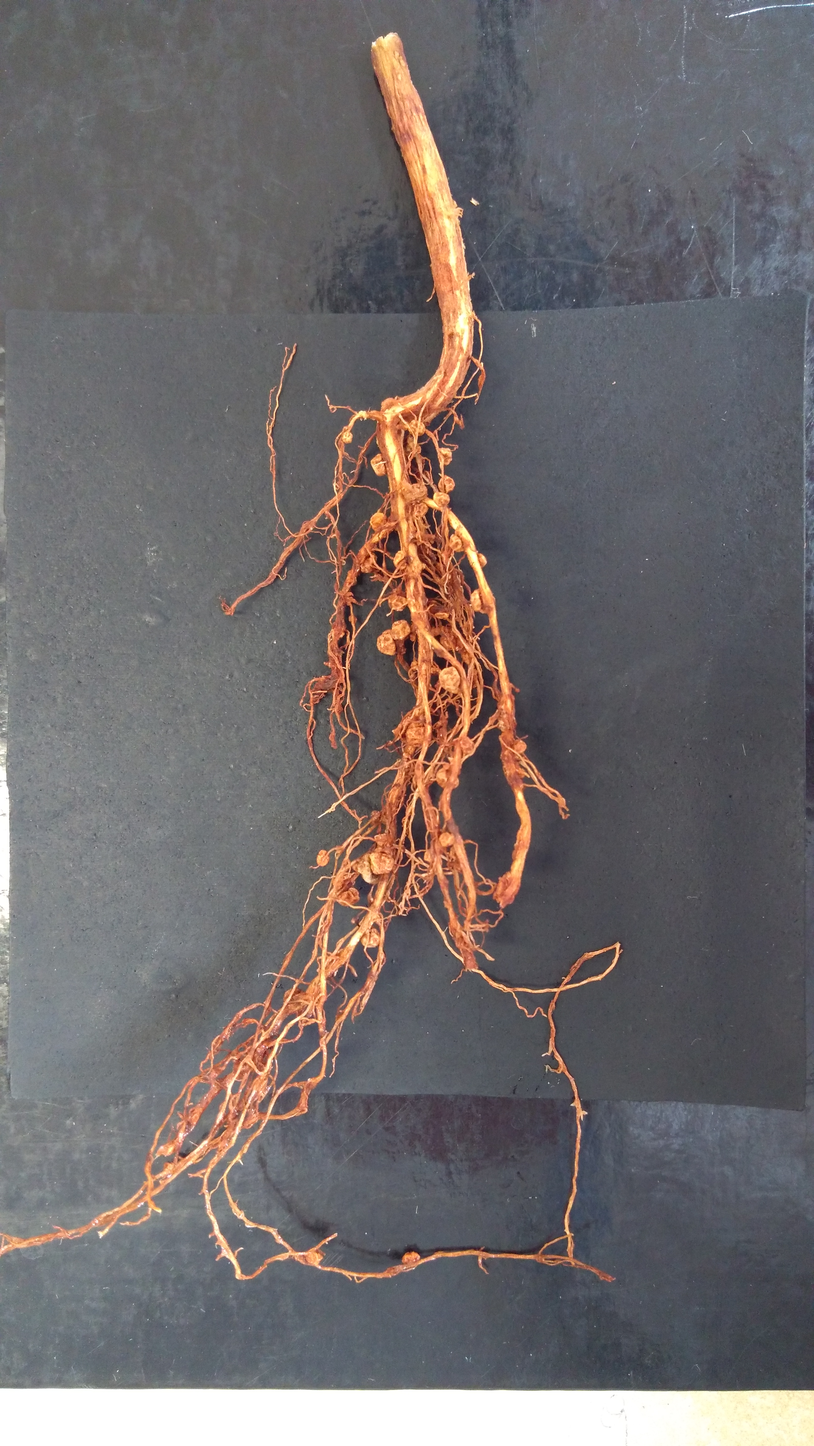nodule: (495, 871, 522, 905), (356, 852, 381, 885), (500, 747, 521, 786), (497, 695, 518, 731), (469, 588, 496, 613), (439, 666, 460, 695), (369, 851, 395, 874), (435, 766, 459, 789), (405, 721, 426, 747), (376, 629, 396, 656), (283, 987, 306, 1009), (403, 483, 428, 503), (390, 619, 411, 641), (336, 888, 360, 907), (232, 1056, 251, 1080), (361, 928, 381, 949), (370, 454, 387, 478), (331, 873, 356, 889), (325, 950, 339, 978), (387, 594, 408, 612), (360, 553, 378, 573), (369, 513, 388, 531), (423, 848, 443, 865), (438, 475, 455, 494), (439, 632, 456, 651), (459, 736, 476, 754), (251, 1075, 268, 1092), (437, 447, 453, 465), (393, 550, 407, 570), (409, 420, 426, 436), (413, 502, 429, 518), (433, 492, 450, 507), (402, 1250, 420, 1264), (439, 832, 455, 847), (448, 534, 462, 551), (316, 849, 329, 867), (305, 1252, 323, 1265), (459, 648, 472, 665), (513, 738, 527, 753), (307, 1246, 326, 1257), (336, 948, 350, 962), (380, 397, 395, 410), (409, 442, 422, 457), (223, 1073, 236, 1087), (414, 760, 424, 777), (370, 810, 381, 825), (374, 833, 390, 843), (343, 431, 353, 445), (189, 1108, 199, 1122), (477, 553, 487, 567), (556, 796, 567, 806), (434, 612, 449, 619), (477, 373, 485, 386), (163, 1162, 173, 1170), (410, 661, 418, 671), (517, 767, 525, 777), (348, 615, 357, 623), (442, 763, 450, 770), (409, 634, 416, 641), (351, 917, 359, 923)
